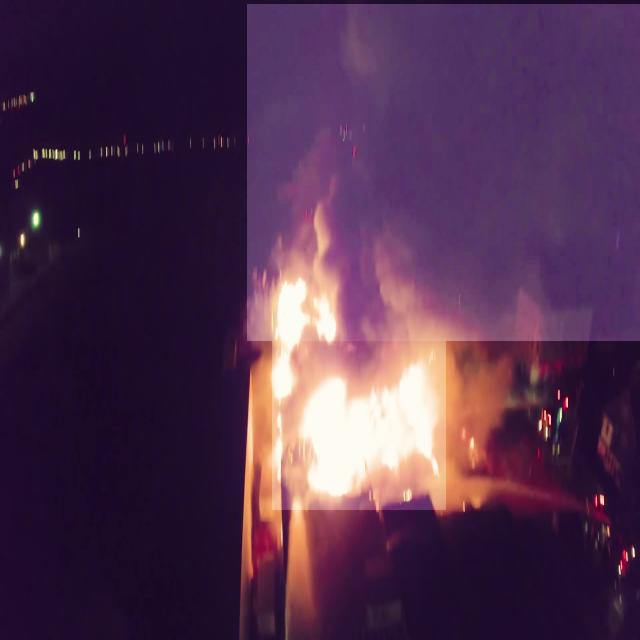Fire: (272, 270, 446, 510)
Smoke: (247, 4, 640, 341)
